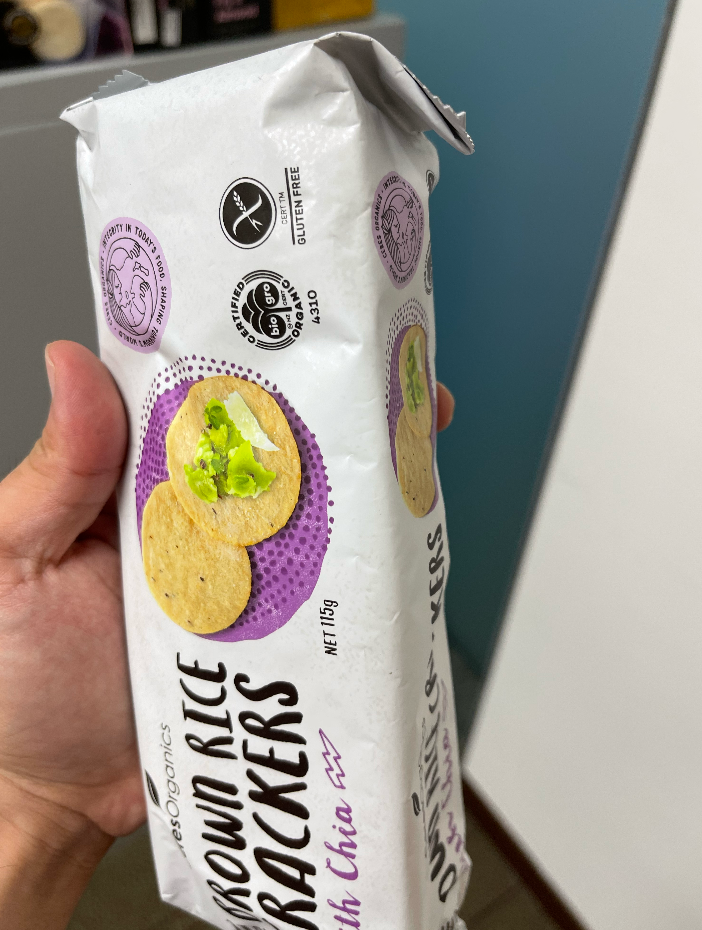crackers_100g-199g: (114, 144, 442, 909)
